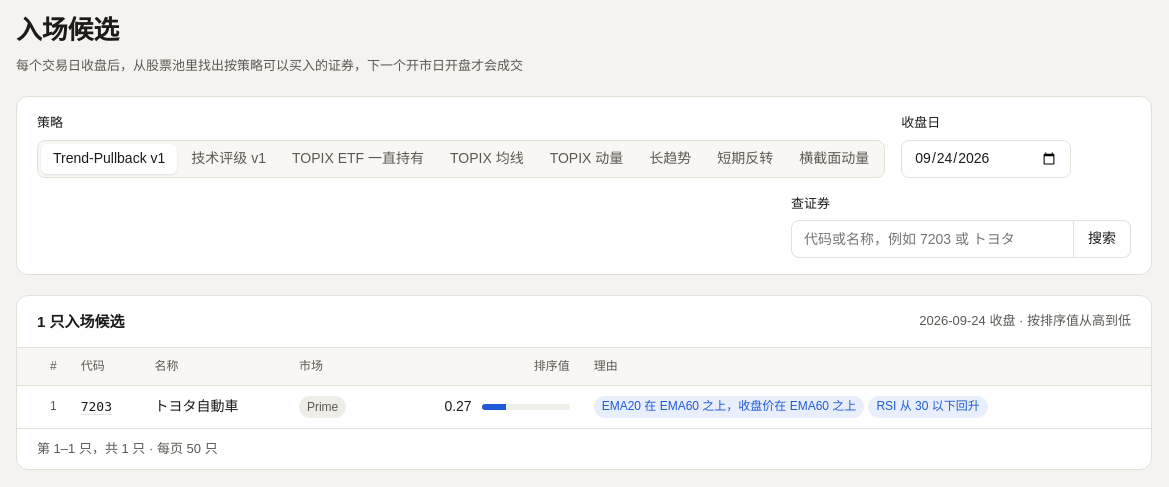
Test: 信号页 › TOPIX ETF 一直持有的入场候选是 1306：市场显示その他，理由是一直持有（对照组）
The width and height of the screenshot is (1169, 487).
Expected: the table named "入场候选" is shown, [17, 348, 1151, 428]
Click the button "TOPIX ETF 一直持有" at (358, 159), box [280, 144, 436, 174]
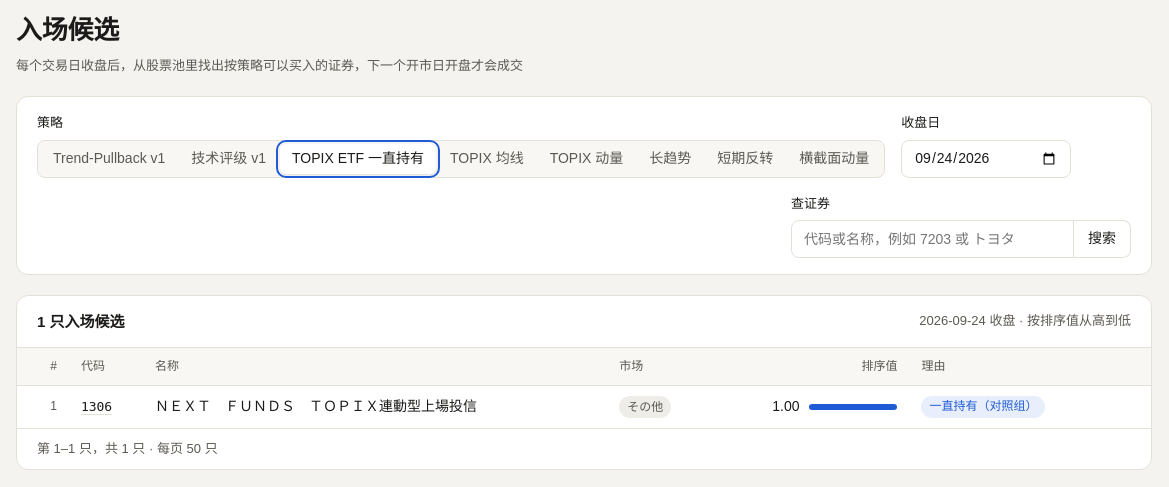
Expected: the text "その他" is shown, [619, 396, 671, 418]
Expected: the text "1.00" is shown, [709, 385, 910, 428]
